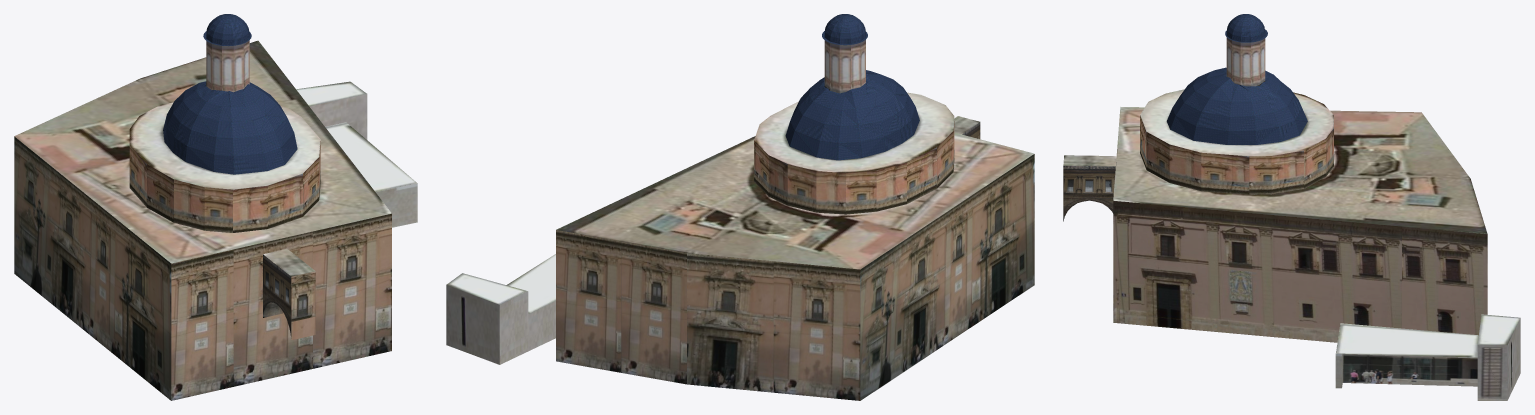
The model's file is PIIE_AR_MO008_BASILICA.fbx.
3 views of the same model, side by side, from view 1: azimuth 30°, elevation 25°; view 2: azimuth 150°, elevation 25°; view 3: azimuth 270°, elevation 25° (orthographic). The views are drawn at different scales.
Visible parts, largest first — view 1: new; view 2: new; view 3: new.
Part boxes in pixels (left/top/right/bottom): new: left=14, top=14, right=417, bottom=400; new: left=446, top=14, right=1034, bottom=400; new: left=1063, top=14, right=1520, bottom=400.
Bounding box in the file's own units: 29.31 × 21.32 × 32.91.
1 material, 1 textured.
